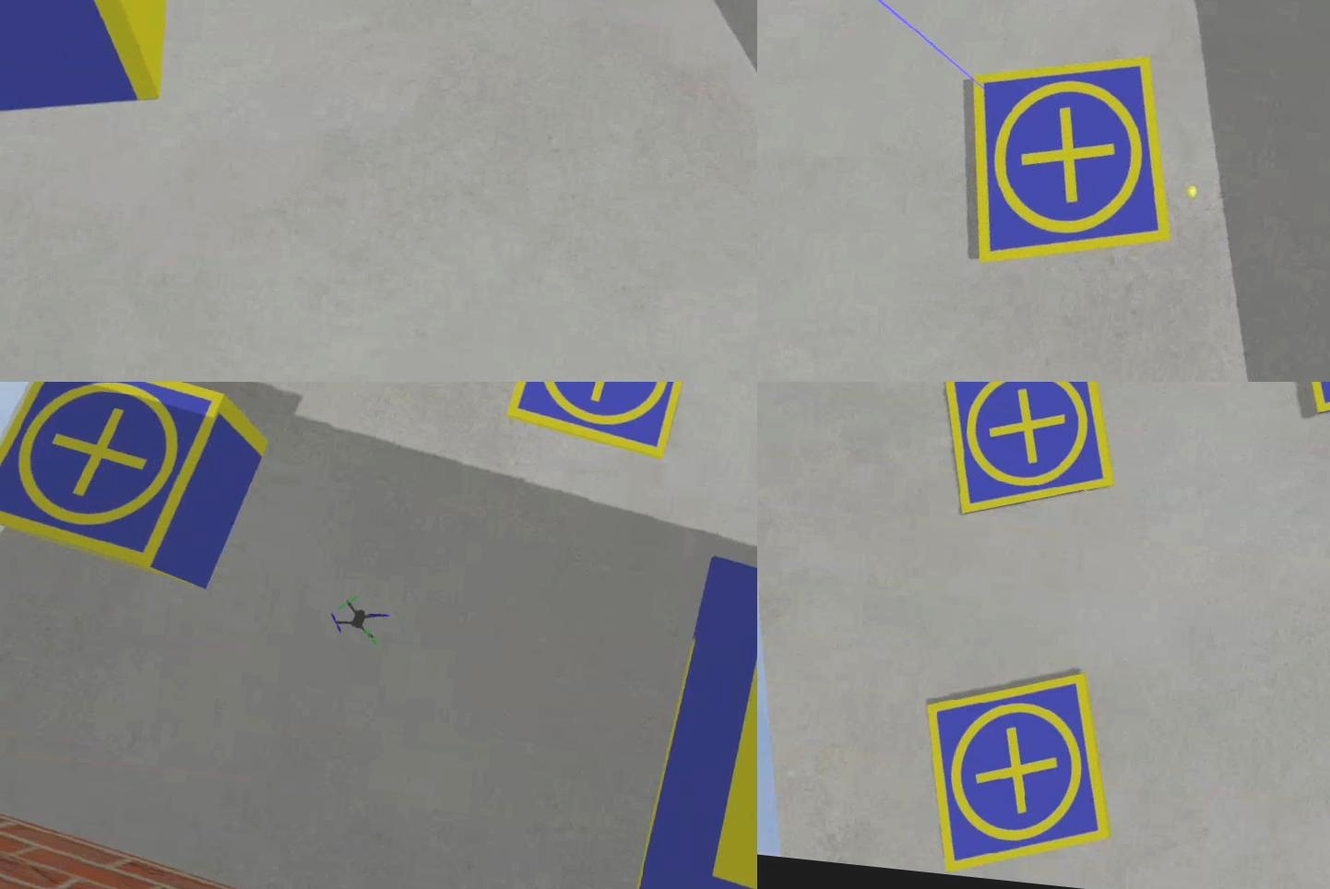small_base: (948, 40, 1191, 286), (912, 656, 1123, 889), (1, 382, 232, 580), (927, 382, 1133, 530), (503, 382, 705, 468)
